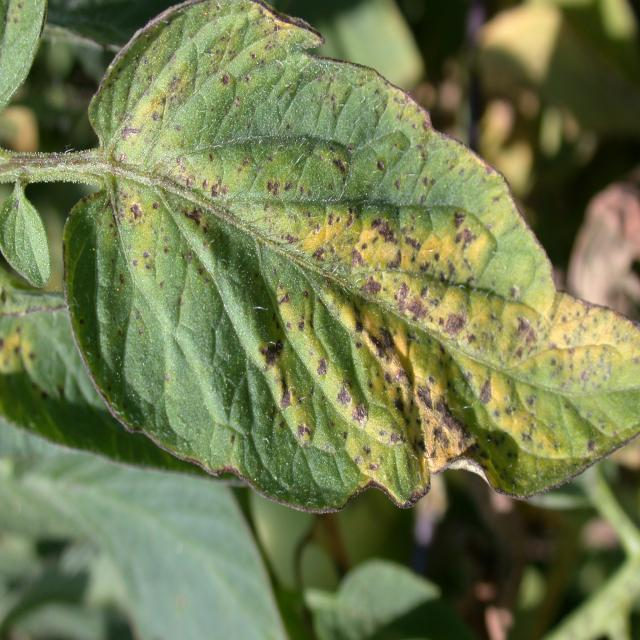Bacterial Spot: (128, 180, 544, 488)
